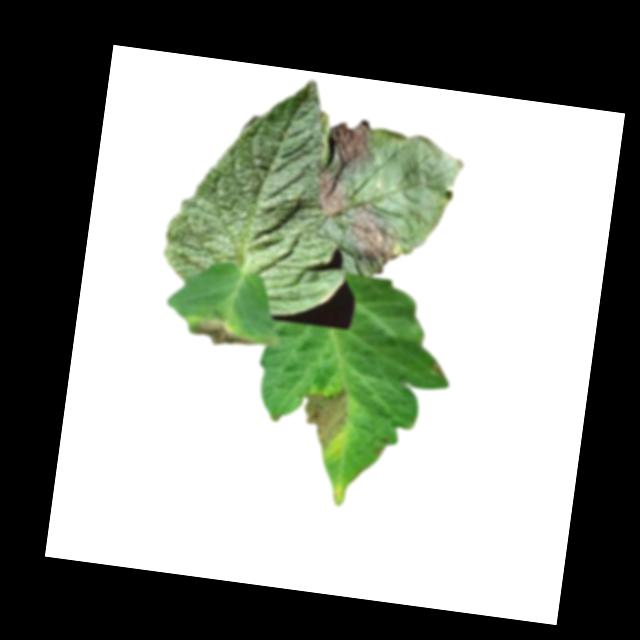Late_blight: (341, 200, 410, 278), (298, 379, 352, 451), (326, 117, 376, 173), (192, 316, 259, 352), (314, 168, 355, 219)
